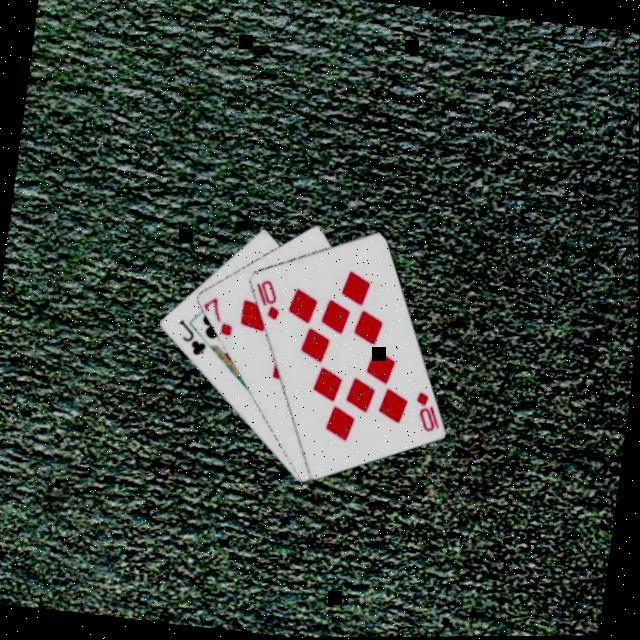10D: (246, 276, 283, 325), (406, 389, 443, 438)
7D: (195, 294, 236, 342)
JC: (169, 317, 210, 361)
